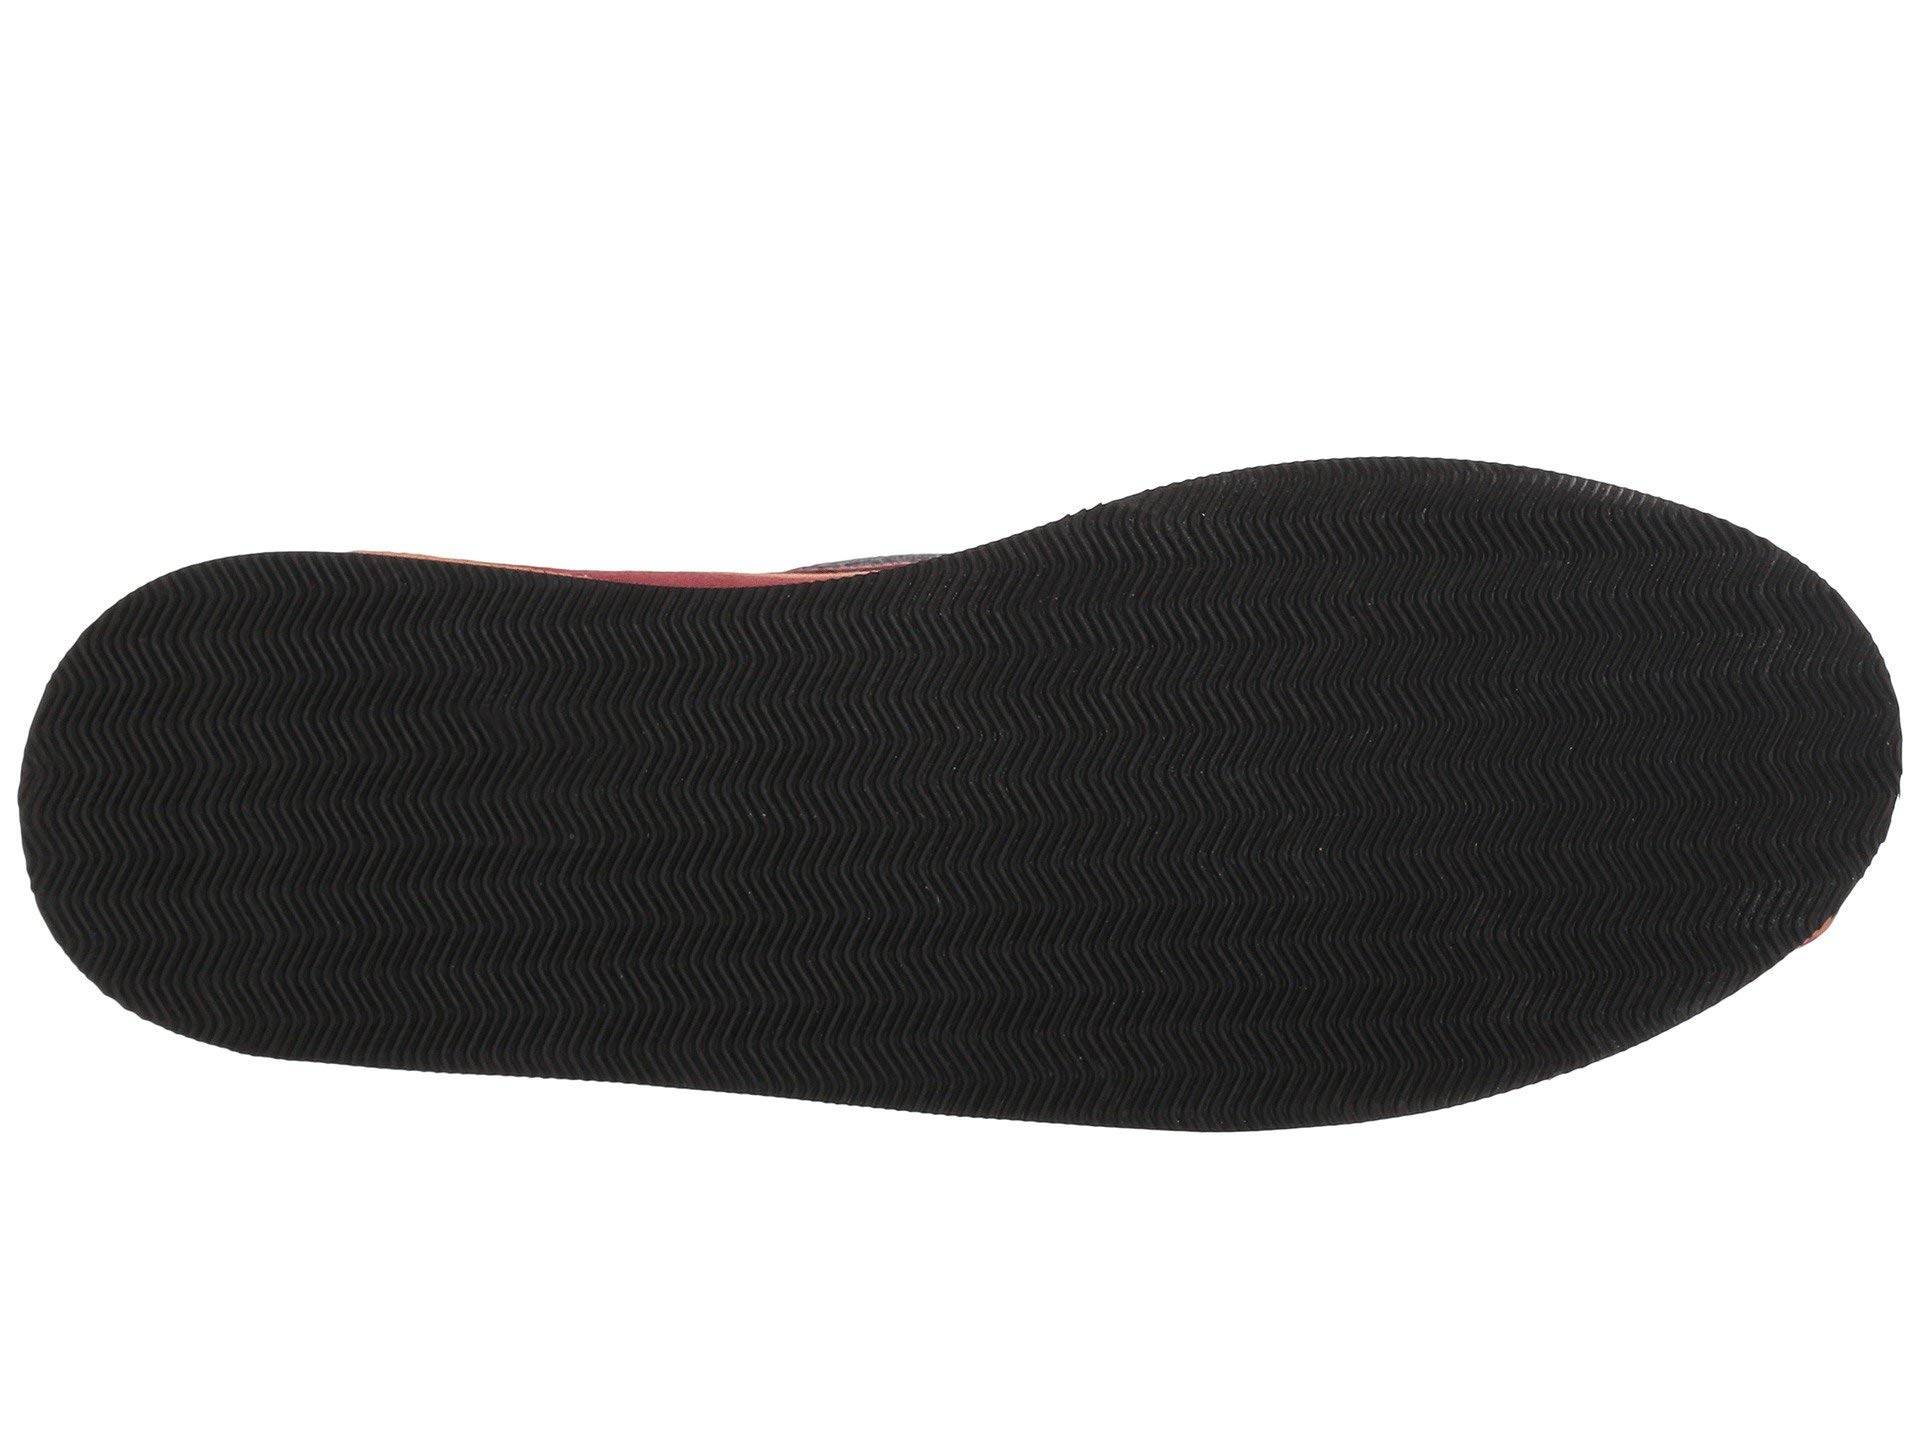chevron: (129, 604, 1689, 954)
